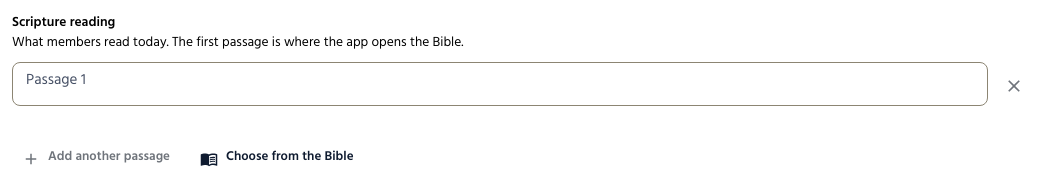
Scenario: PassageListField › turns an abbreviation away instead of saving what the app cannot open
This screenshot has width=1048, height=184.
In the field with test id "day-passage-0": coordinates (500, 84) x1=12 y1=64 x2=988 y2=103, type "Jn 3:16"
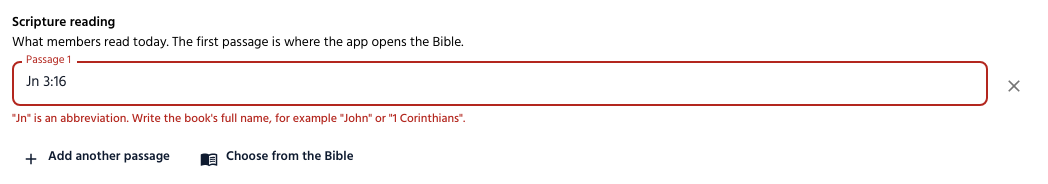
Check: the text "abbreviation" is shown, box x1=12 y1=109 x2=465 y2=131
